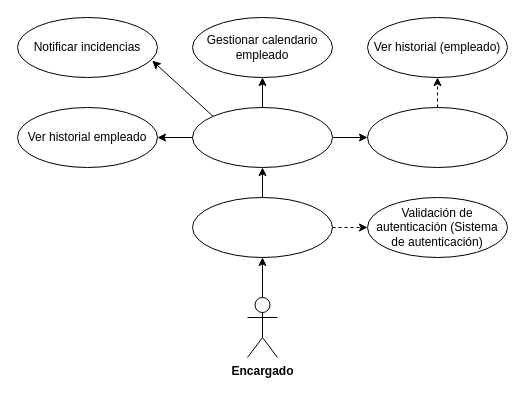
This 525x396 diagram has some shape labels left out. The centre of each missing label's shape, as x and y in pixels:
"Gestionar empleado" goes at point (262, 137).
"Solicitar autenticación" goes at point (262, 227).
"Verificar la asistencia empleado" goes at point (437, 137).
